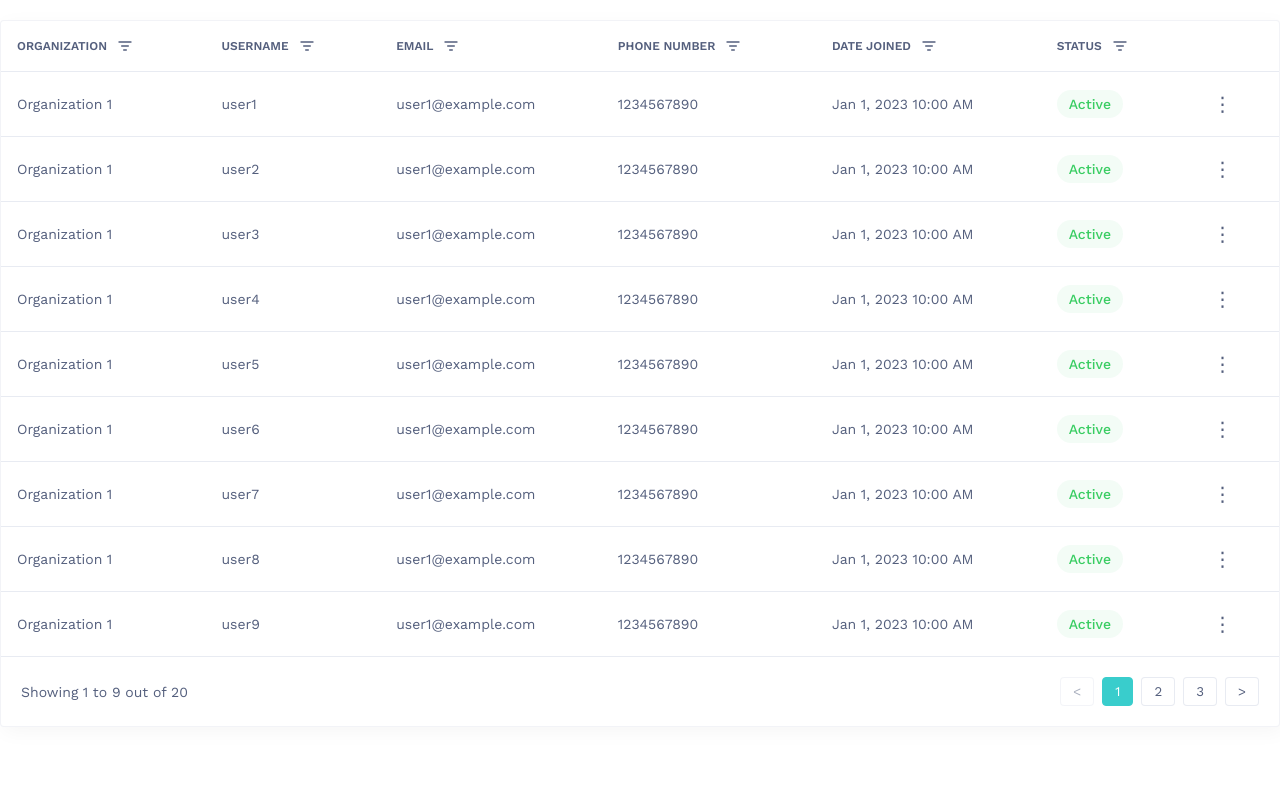
Scenario: UsersTable › handles pagination correctly
Expected: the text "Showing 1 to 9 out of 20" is shown, [21,684,188,700]
# Go to next page
Click the button ">": (1242, 692) [1225,677,1259,706]
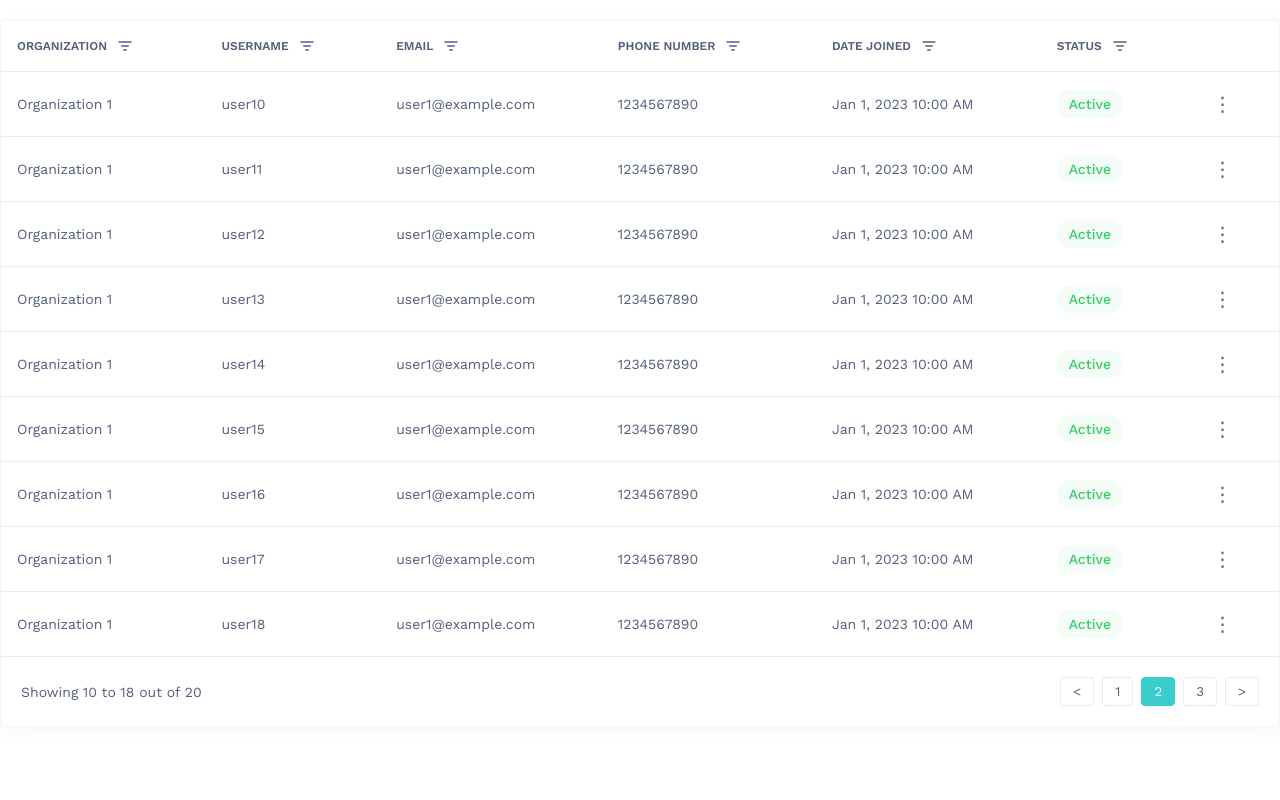
Expected: the text "Showing 10 to 18 out of 20" is shown, [21,684,202,700]
